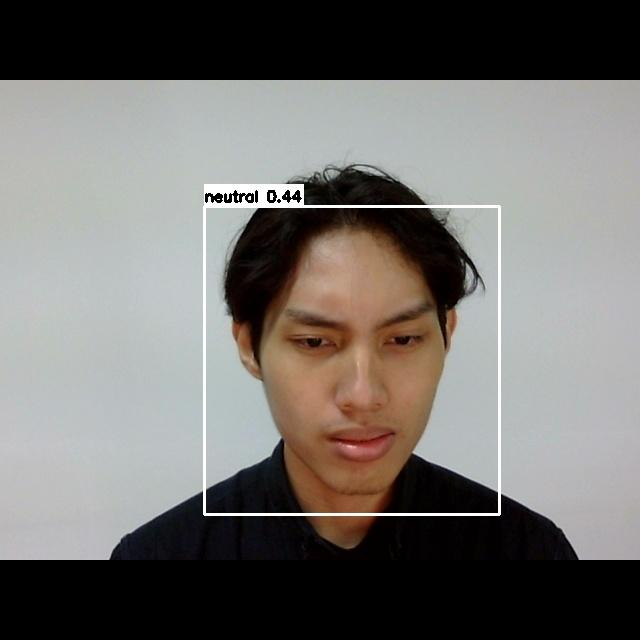Angry: (237, 269, 457, 476)
